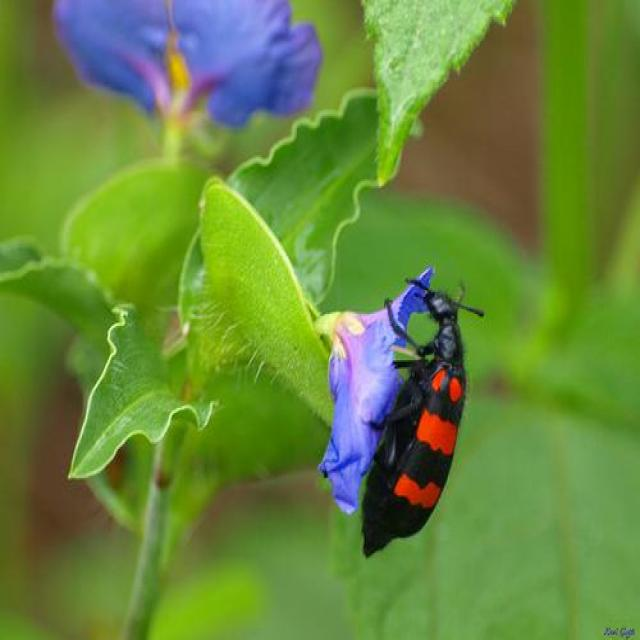BlisterBeetle-Adult-: (345, 255, 498, 569)
